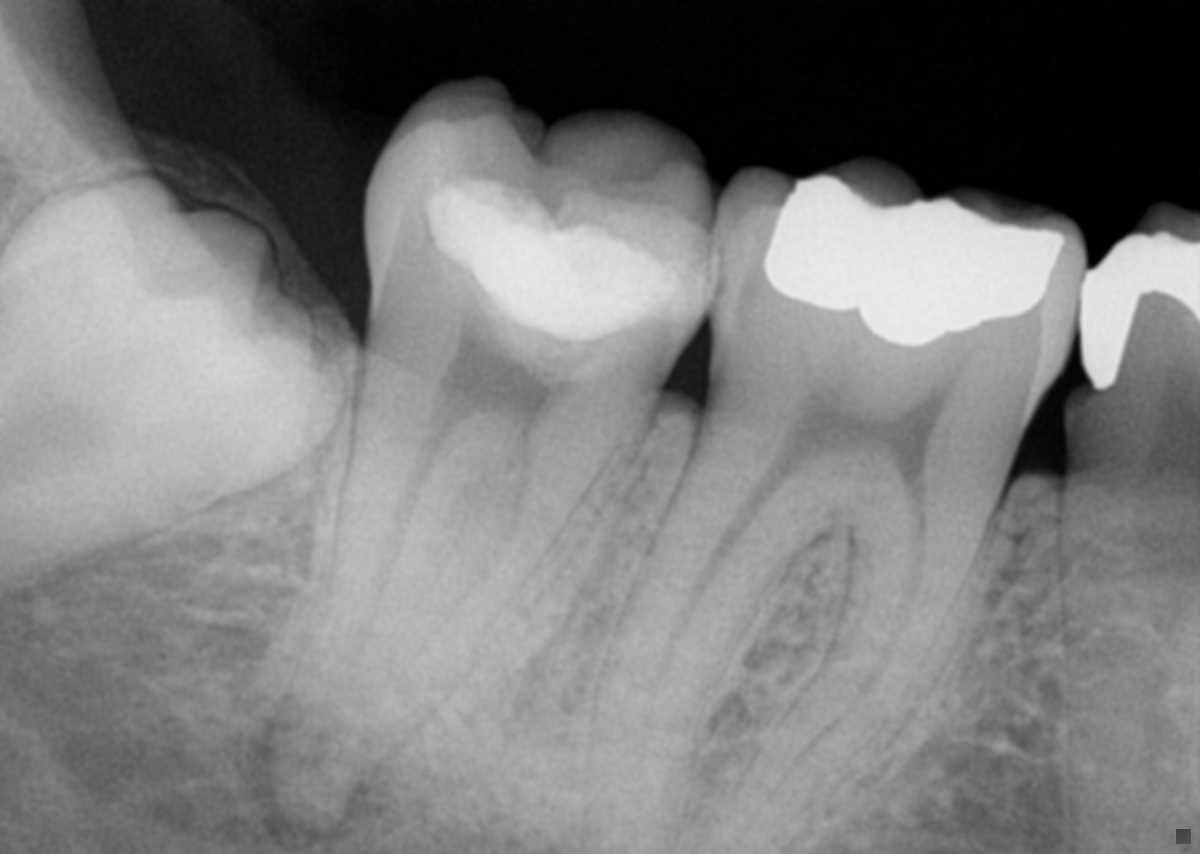Apical Lesion: (240, 699, 406, 854)
Distal Canal: (627, 462, 791, 827), (336, 420, 459, 706)
Distal Root: (588, 411, 832, 852)
Main Canal: (1132, 400, 1200, 838)
Main Root: (275, 355, 642, 828), (1061, 392, 1200, 854)
Mesial Canal: (741, 539, 927, 845), (377, 430, 528, 689)
Mesial Root: (717, 523, 977, 853)
